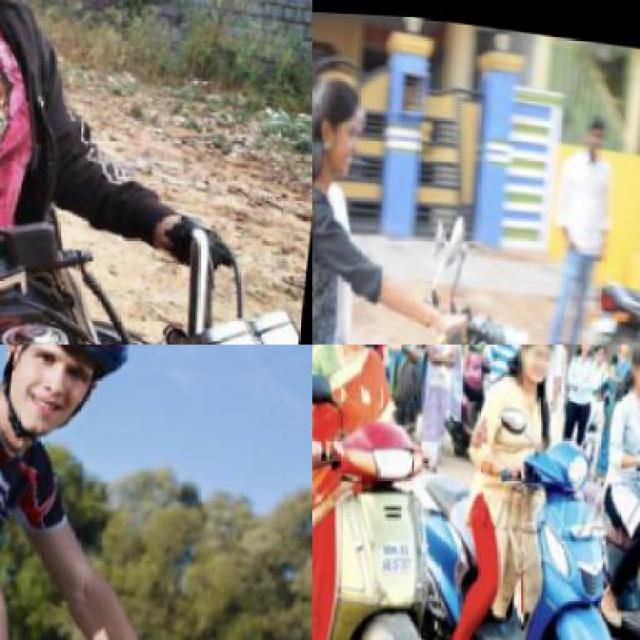With Helmet: (0, 344, 146, 456)
Without Helmet: (312, 63, 372, 162), (518, 345, 568, 377), (628, 345, 638, 397)
